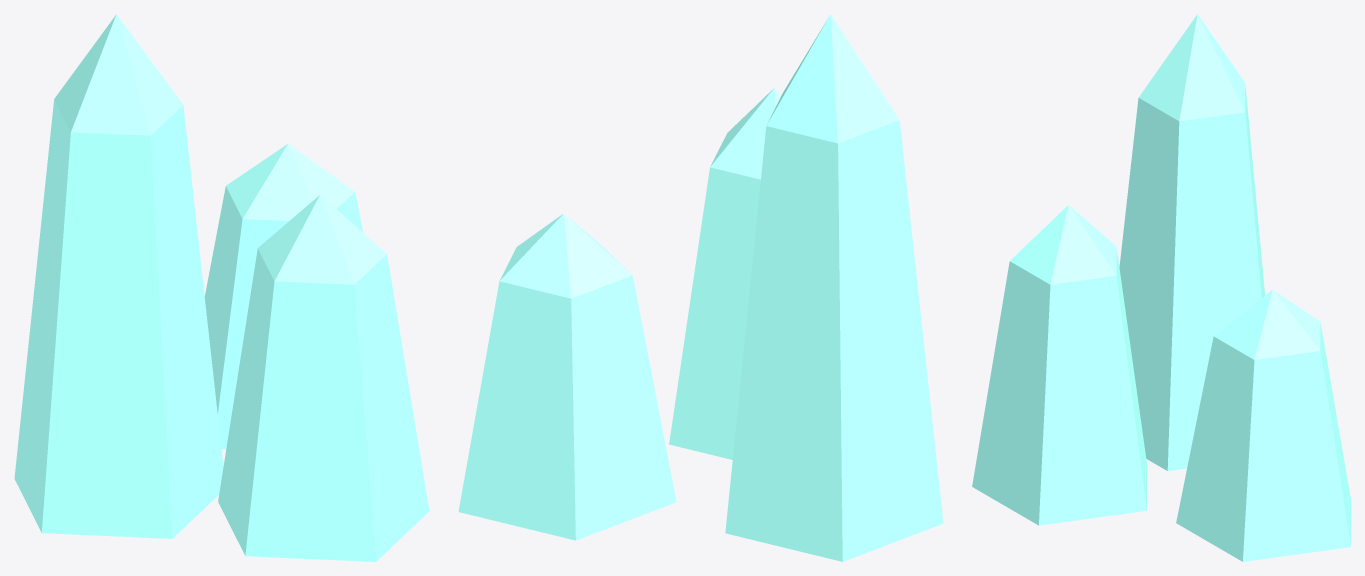
Rendered from enfeite_cristal.glb.
3 views of the same model, side by side, from view 1: azimuth 30°, elevation 25°; view 2: azimuth 150°, elevation 25°; view 3: azimuth 270°, elevation 25° (orthographic). The views are drawn at different scales.
Visible parts, largest first — view 1: pedreira_enfeite_cristal; view 2: pedreira_enfeite_cristal; view 3: pedreira_enfeite_cristal.
Part boxes in pixels (x1,y1,x2,y2): pedreira_enfeite_cristal: (14,14,429,561); pedreira_enfeite_cristal: (458,14,943,561); pedreira_enfeite_cristal: (972,14,1350,561).
Size of the model in its own units: 0.3712 by 0.43 by 0.3528.
